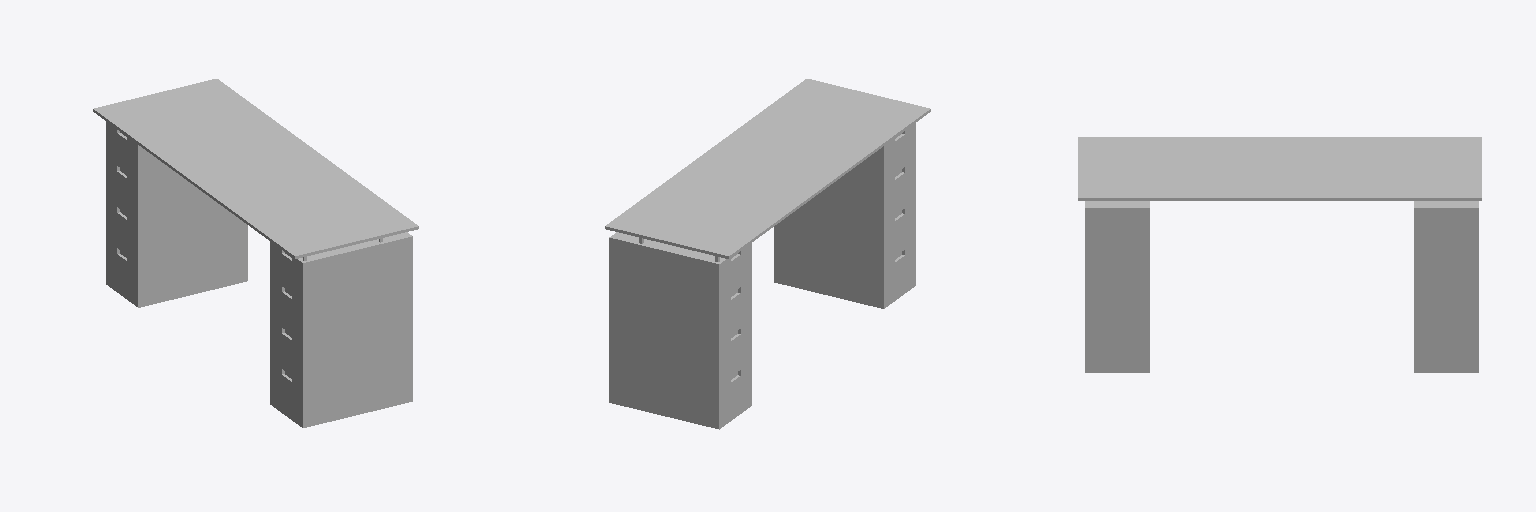
Rendered from Table.obj.
3 views of the same model, side by side, from view 1: azimuth 30°, elevation 25°; view 2: azimuth 150°, elevation 25°; view 3: azimuth 270°, elevation 25° (orthographic).
Visible parts, largest first — view 1: Untitled, Untitled.001; view 2: Untitled, Untitled.001; view 3: Untitled.001, Untitled.
Boxes of the visible parts, <box> form: Untitled: <box>106,122,412,427</box>; Untitled.001: <box>93,79,418,378</box>; Untitled: <box>609,123,915,429</box>; Untitled.001: <box>605,79,930,379</box>; Untitled.001: <box>1078,137,1481,200</box>; Untitled: <box>1085,201,1478,372</box>.
Size of the model in its own units: 4.4 by 6 by 12.4.